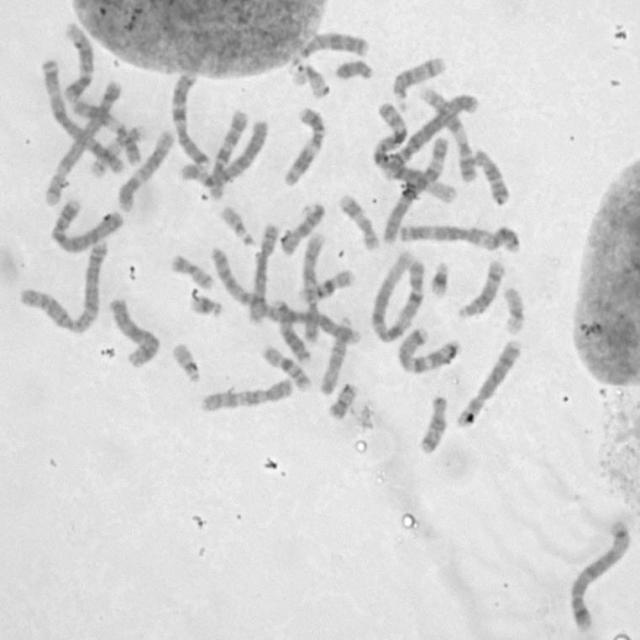A1: (370, 99, 460, 205), (368, 248, 425, 344)
A2: (206, 242, 363, 346), (15, 237, 109, 337)
A3: (38, 52, 128, 178), (394, 219, 522, 255)
B4: (376, 88, 480, 184), (48, 196, 123, 256)
B5: (40, 72, 124, 208), (565, 516, 631, 632)
C10: (204, 108, 250, 200), (196, 375, 295, 414)
C11: (68, 95, 144, 167), (280, 103, 326, 188)
C12: (114, 125, 175, 212), (58, 19, 96, 104)
C6: (380, 132, 452, 245), (178, 115, 269, 189)
C7: (169, 69, 211, 168), (393, 323, 461, 376)
C8: (454, 337, 523, 429), (245, 219, 280, 326)
C9: (416, 84, 478, 185), (298, 232, 328, 343)
D13: (270, 294, 312, 364), (294, 29, 370, 61)
D14: (390, 53, 448, 111), (455, 257, 506, 320)
D15: (316, 314, 354, 396), (277, 198, 328, 256)
E16: (259, 342, 313, 393), (296, 266, 356, 304)
E17: (87, 120, 146, 177), (336, 190, 380, 252)
E18: (471, 145, 512, 207), (416, 392, 449, 456)
F19: (287, 59, 330, 100), (499, 283, 526, 336)
F20: (168, 251, 214, 291), (325, 380, 358, 420)
G21: (187, 290, 225, 319), (427, 258, 451, 299)
G22: (218, 203, 255, 246), (168, 340, 202, 384)
X: (108, 294, 162, 369)
Y: (332, 56, 374, 82)
